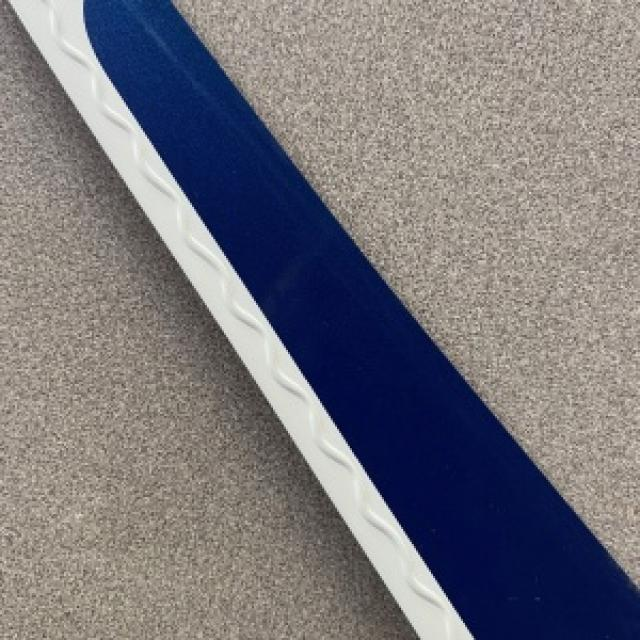healthy: (0, 0, 410, 638)
